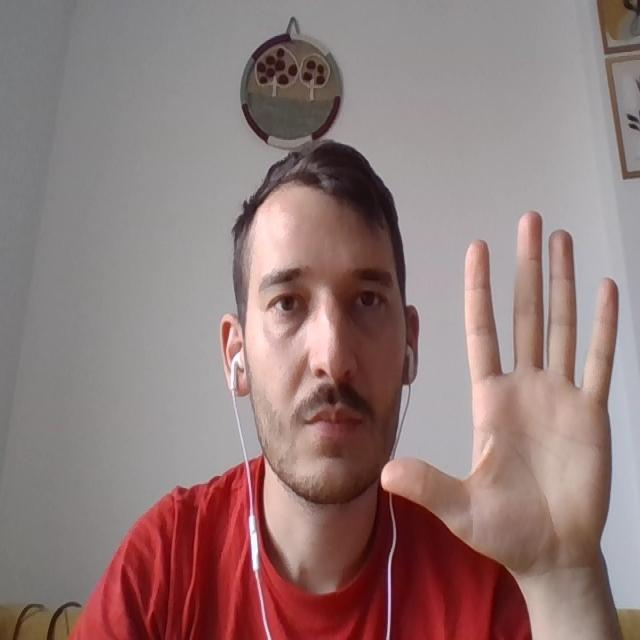hello: (380, 250, 627, 581)
